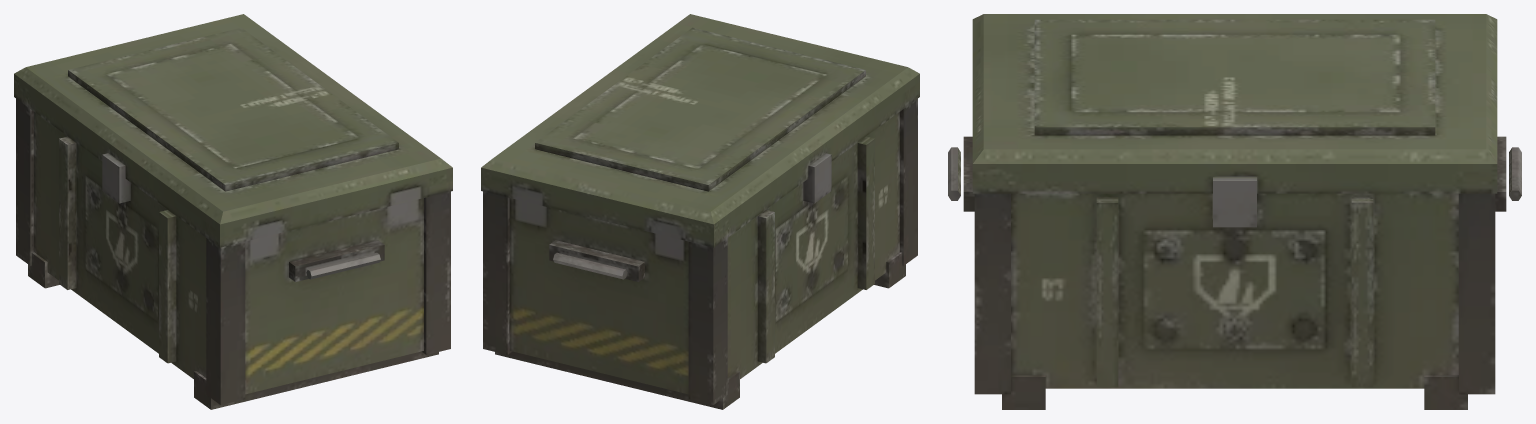
File: hs_supply_crate_lod1.glb
3 renders of one model, left to right at view 1: azimuth 30°, elevation 25°; view 2: azimuth 150°, elevation 25°; view 3: azimuth 270°, elevation 25°, orthographic. The views are drawn at different scales.
Bounding box in the file's own units: 0.99 × 0.805 × 1.58.
1 material, 1 textured.
